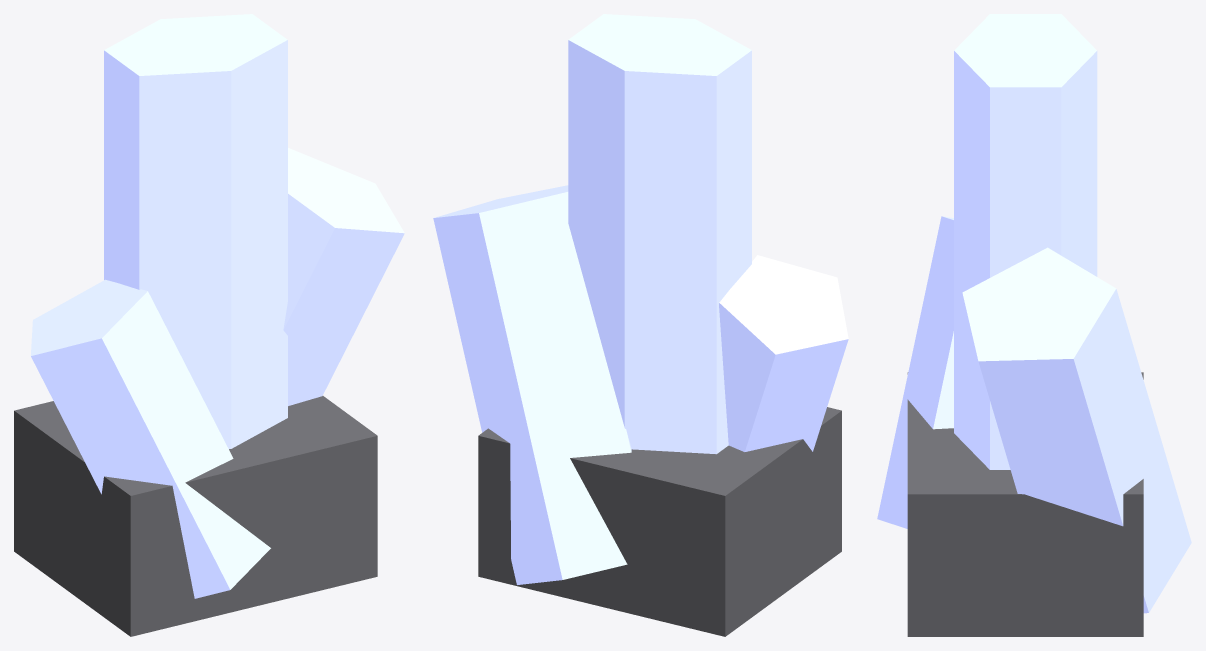
File: AbyssalTrenchShard.glb
3 renders of one model, left to right at view 1: azimuth 30°, elevation 25°; view 2: azimuth 150°, elevation 25°; view 3: azimuth 270°, elevation 25°, orthographic.
Visible parts, largest first — view 1: AbyssalTrenchShard; view 2: AbyssalTrenchShard; view 3: AbyssalTrenchShard.
Part boxes in pixels (box(x1,y1,x2,y2)): AbyssalTrenchShard: box(14, 14, 404, 636); AbyssalTrenchShard: box(433, 14, 848, 636); AbyssalTrenchShard: box(877, 14, 1191, 636).
Size of the model in its own units: 1.86 by 2.47 by 1.32.
